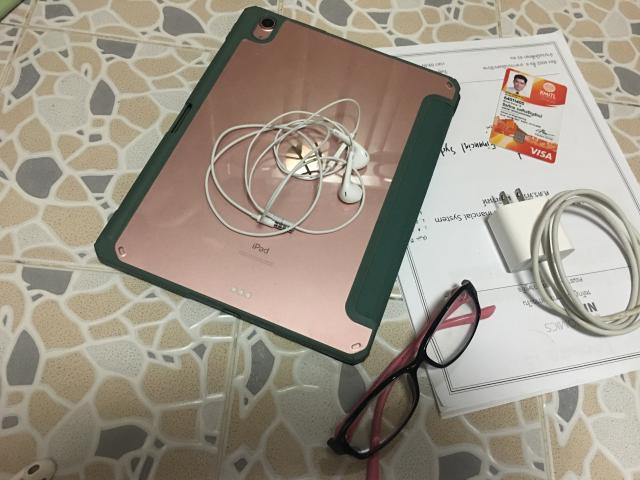Glasses: (328, 280, 495, 479)
paper: (327, 32, 640, 418)
wire: (204, 99, 370, 238), (488, 189, 640, 336)
